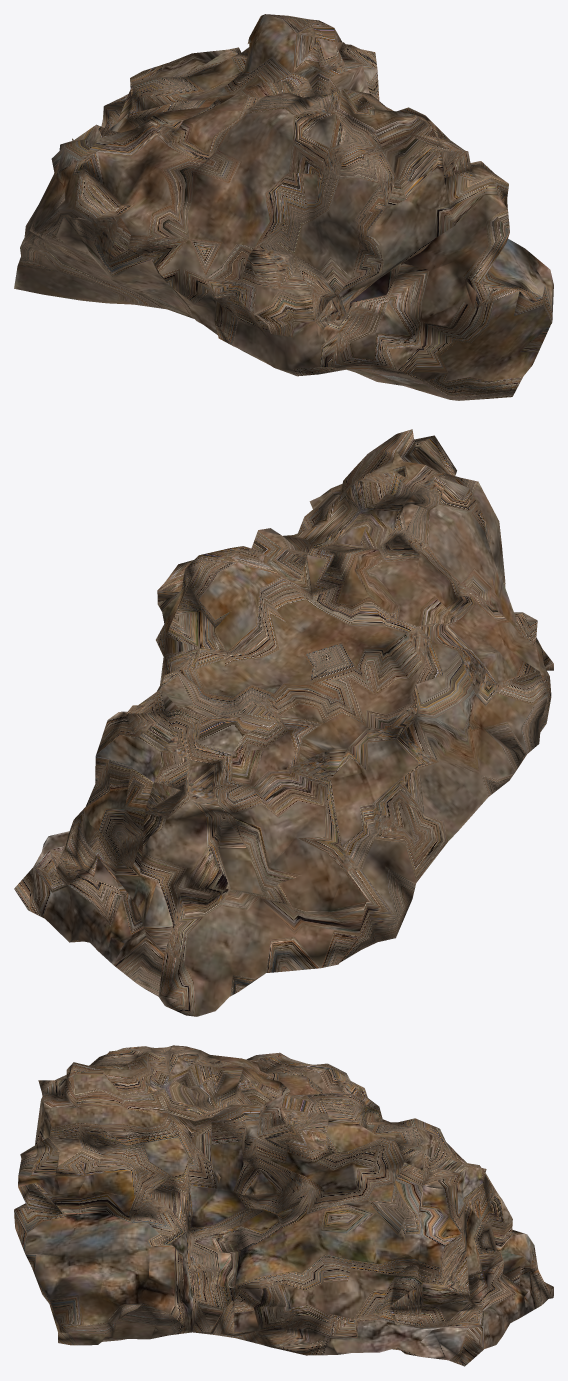
Rendered from boulder_01.glb.
3 views of the same model, one above another, from view 1: azimuth 30°, elevation 25°; view 2: azimuth 150°, elevation 25°; view 3: azimuth 270°, elevation 25° (orthographic). The views are drawn at different scales.
Bounding box in the file's own units: 1.27 × 0.9941 × 1.82.
1 material, 1 textured.
